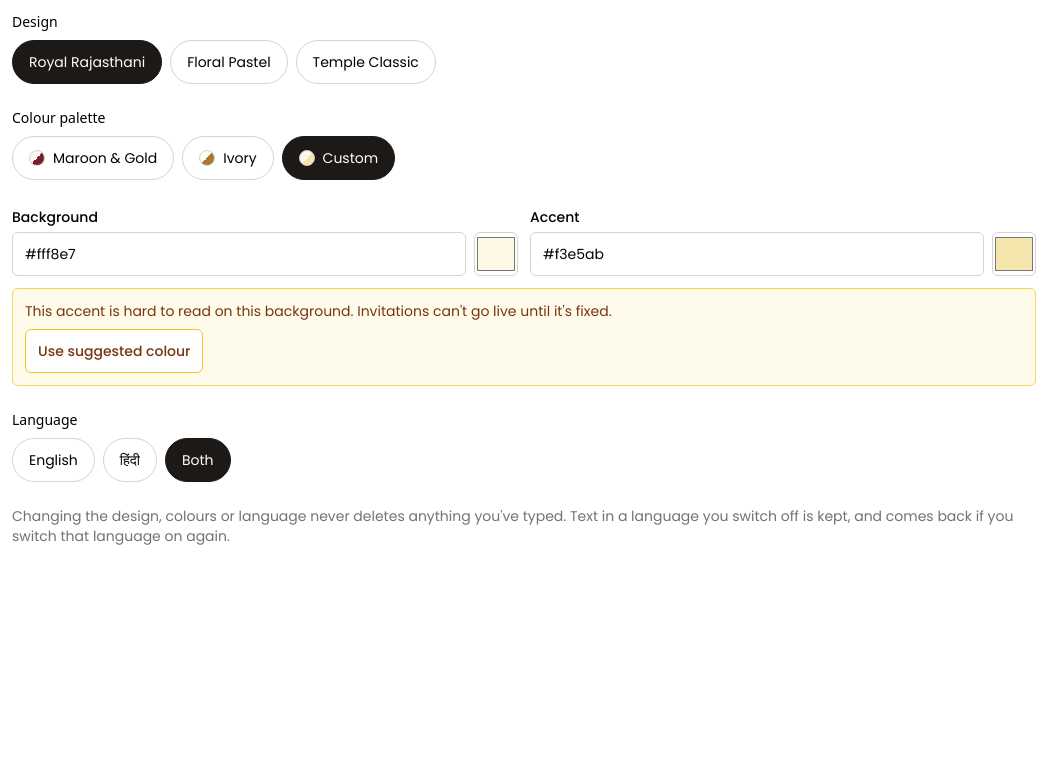
Scenario: TemplateStep › custom colours › warns about a weak accent and fixes it with the suggested colour
Expected: the text "This accent is hard to read on this background. Invitations can't go live until it's fixed." is shown, top-left (25, 301), bottom-right (612, 321)
Click the button "Use suggested colour" at (114, 351), box top-left (25, 329), bottom-right (204, 373)
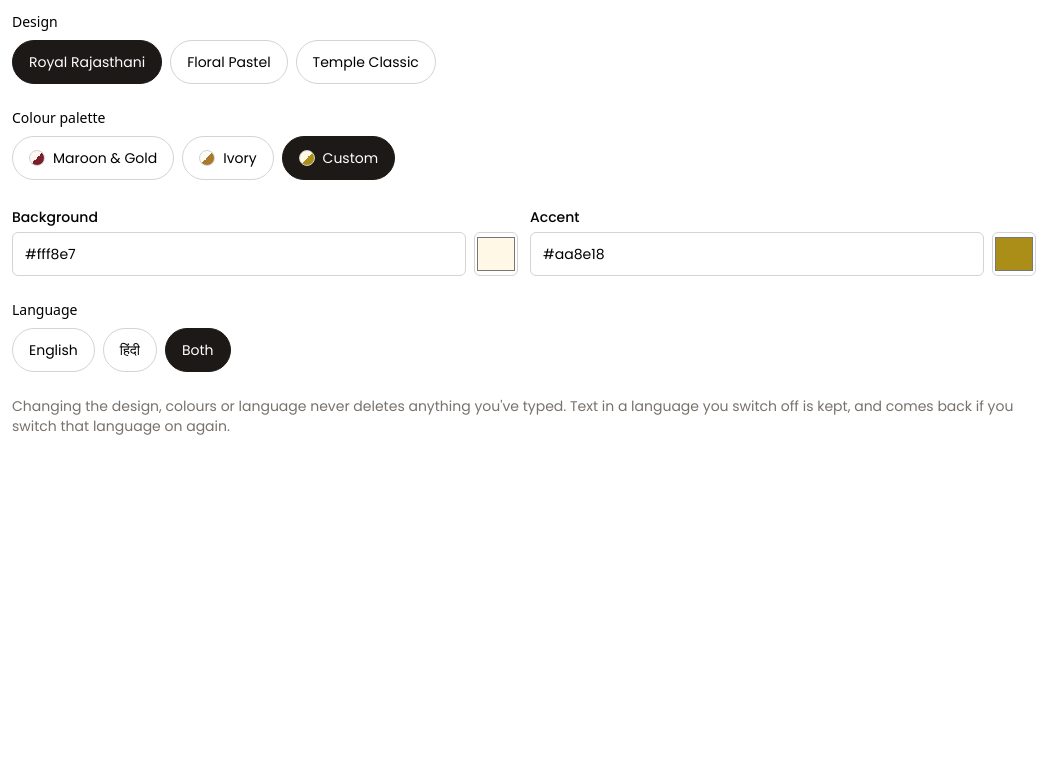
Now the text "hard to read" is gone
